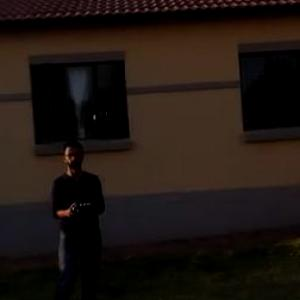follow: (48, 130, 110, 299)
